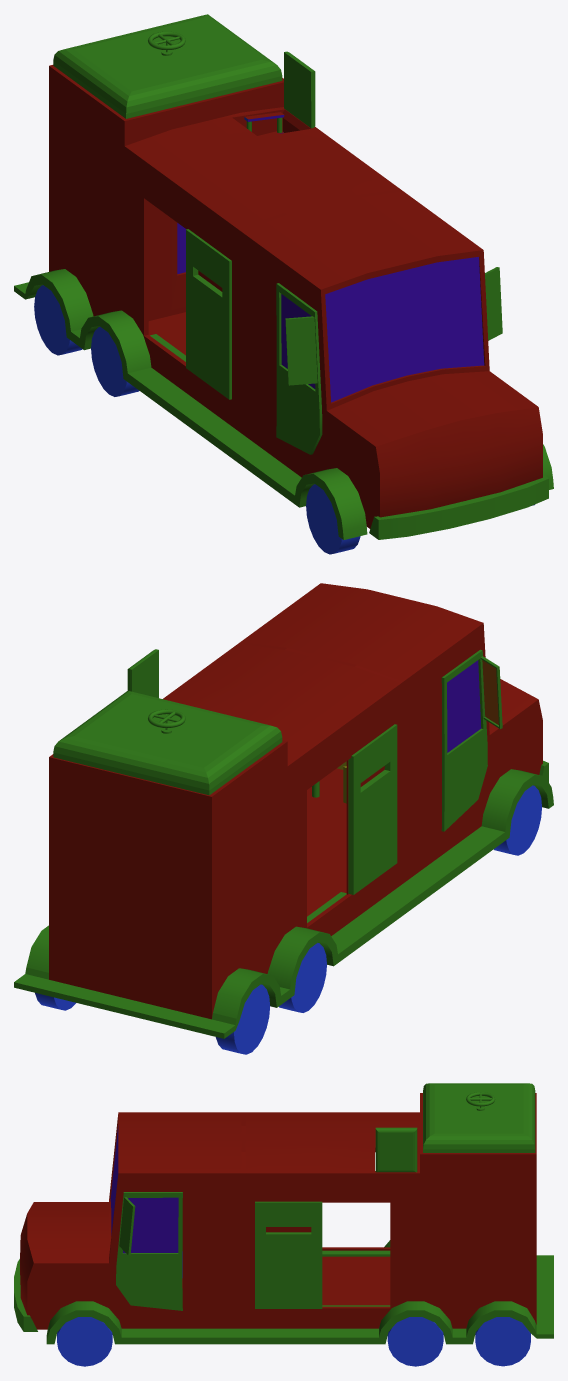
File: SM_Truck.fbx
3 views of the same model, one above another, from view 1: azimuth 30°, elevation 25°; view 2: azimuth 150°, elevation 25°; view 3: azimuth 270°, elevation 25° (orthographic). The views are drawn at different scales.
Visible parts, largest first — view 1: Front_Base, Vault_Door_Roof, Door_Front_Right, Lateral_Door_Back, Trap_Door_Roof, Wheel_Right_03, Wheel_Right_01, Wheel_Right_02, Door_Front_Left; view 2: Front_Base, Vault_Door_Roof, Door_Front_Right, Lateral_Door_Back, Wheel_Right_01, Wheel_Right_03, Wheel_Right_02, Trap_Door_Roof; view 3: Front_Base, Vault_Door_Roof, Door_Front_Left, Lateral_Door_Back001, Wheel_Left_02, Wheel_Left_03, Wheel_Left_01, Trap_Door_Roof, Door_Step_03.
Part boxes in pixels (<box>): Front_Base: <box>14,65,553,539</box>; Vault_Door_Roof: <box>53,14,282,118</box>; Door_Front_Right: <box>276,283,322,454</box>; Lateral_Door_Back: <box>186,229,231,399</box>; Trap_Door_Roof: <box>284,51,315,128</box>; Wheel_Right_03: <box>306,484,360,554</box>; Wheel_Right_01: <box>34,285,82,355</box>; Wheel_Right_02: <box>91,327,139,396</box>; Door_Front_Left: <box>485,267,502,340</box>; Front_Base: <box>14,583,553,1038</box>; Vault_Door_Roof: <box>53,691,282,795</box>; Door_Front_Right: <box>441,649,502,831</box>; Lateral_Door_Back: <box>348,724,397,894</box>; Wheel_Right_01: <box>215,984,270,1054</box>; Wheel_Right_03: <box>494,785,541,855</box>; Wheel_Right_02: <box>279,943,326,1012</box>; Trap_Door_Roof: <box>127,649,158,697</box>; Front_Base: <box>14,1093,553,1344</box>; Vault_Door_Roof: <box>423,1083,535,1152</box>; Door_Front_Left: <box>116,1192,182,1310</box>; Lateral_Door_Back001: <box>255,1201,322,1308</box>; Wheel_Left_02: <box>387,1317,443,1366</box>; Wheel_Left_03: <box>57,1317,112,1366</box>; Wheel_Left_01: <box>475,1317,530,1366</box>; Trap_Door_Roof: <box>375,1127,417,1172</box>; Door_Step_03: <box>322,1250,390,1256</box>.
Size of the model in its own units: 2.75 by 3.7 by 7.83.
